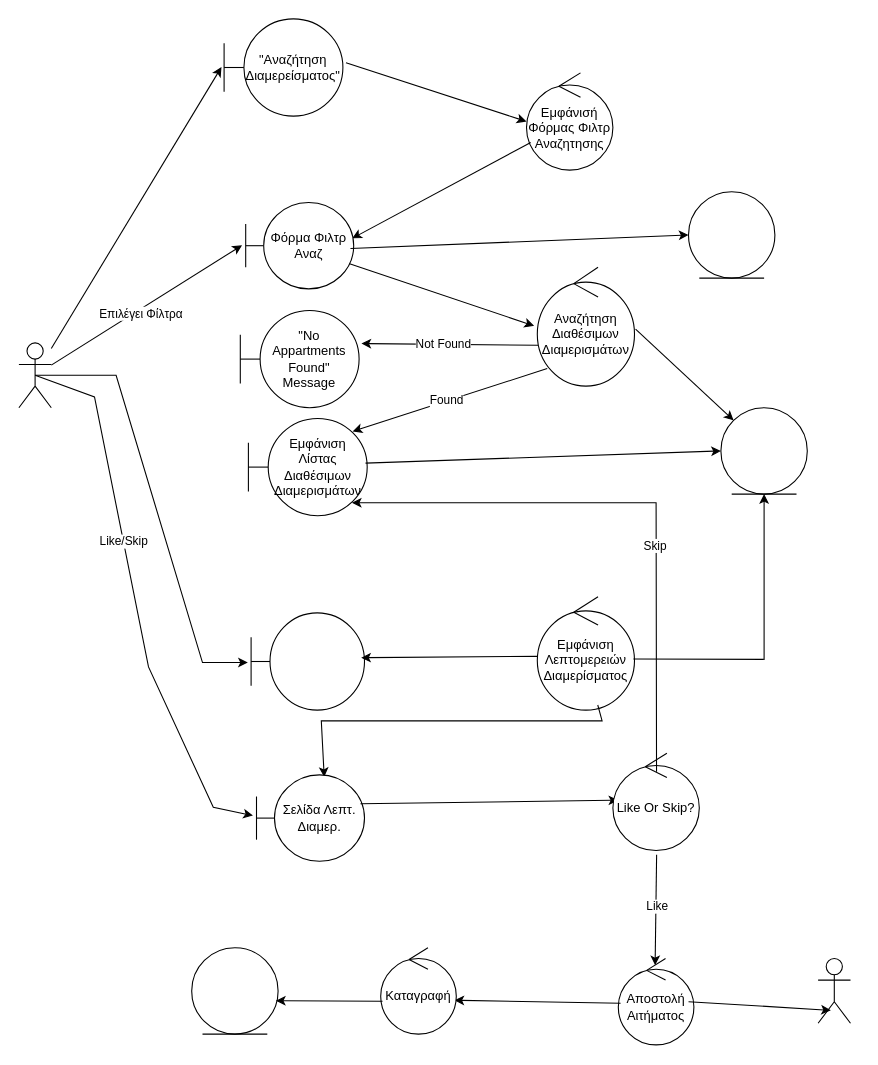
The diagram is 878 pixels wide and 1065 high, and some of its shapes have lost their labels. Each missing label, with the centre of its shape:
"Προβολή Λεπτομεριών": point (307, 661)
Appartments: point (763, 450)
Filters: point (731, 234)
Landlord: point (833, 990)
User: point (34, 375)
Λίστα Αιτημάτων Χρήστη: point (234, 990)
